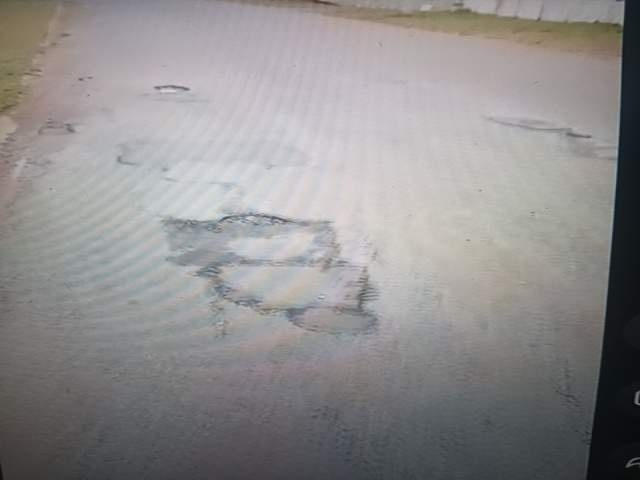pothole: (109, 403, 323, 480)
